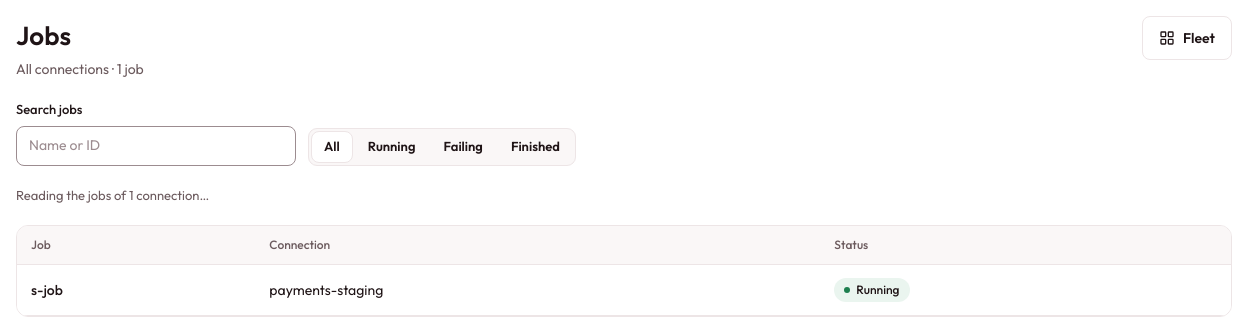
Test: JOB-11 · jobs across connections (board X18) › audit of 96b81e0: one connection answered, another still reading: a filter with no match among the read says nothing yet
Expected: the button "s-job" is shown, [31,280,63,300]
Click the button "Failing" at point(463, 146), box [430,130,496,162]
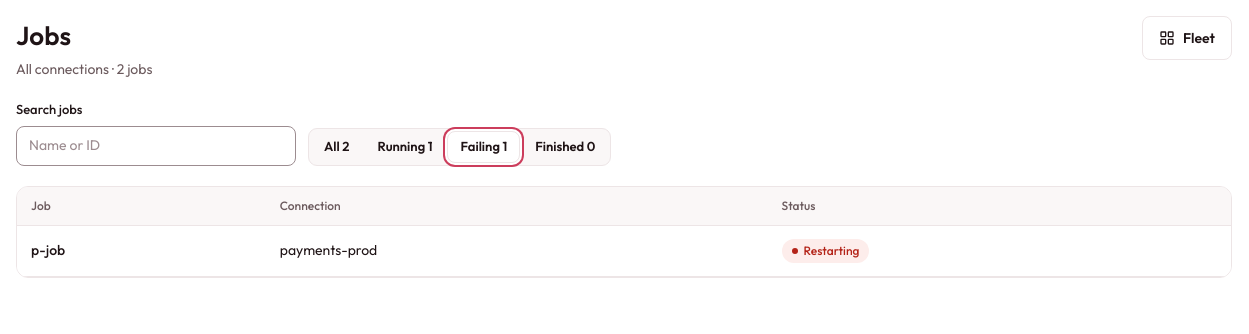
Expected: the button "p-job" is shown, [31,240,65,261]
